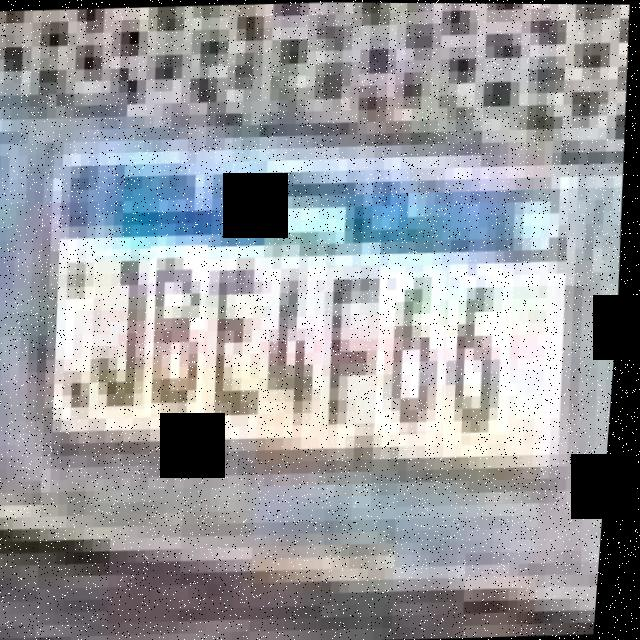4: (264, 274, 329, 420)
6: (443, 266, 524, 436), (376, 269, 456, 432)
B: (144, 243, 217, 416)
E: (204, 254, 280, 418)
F: (321, 263, 391, 427)
J: (91, 254, 163, 411)
